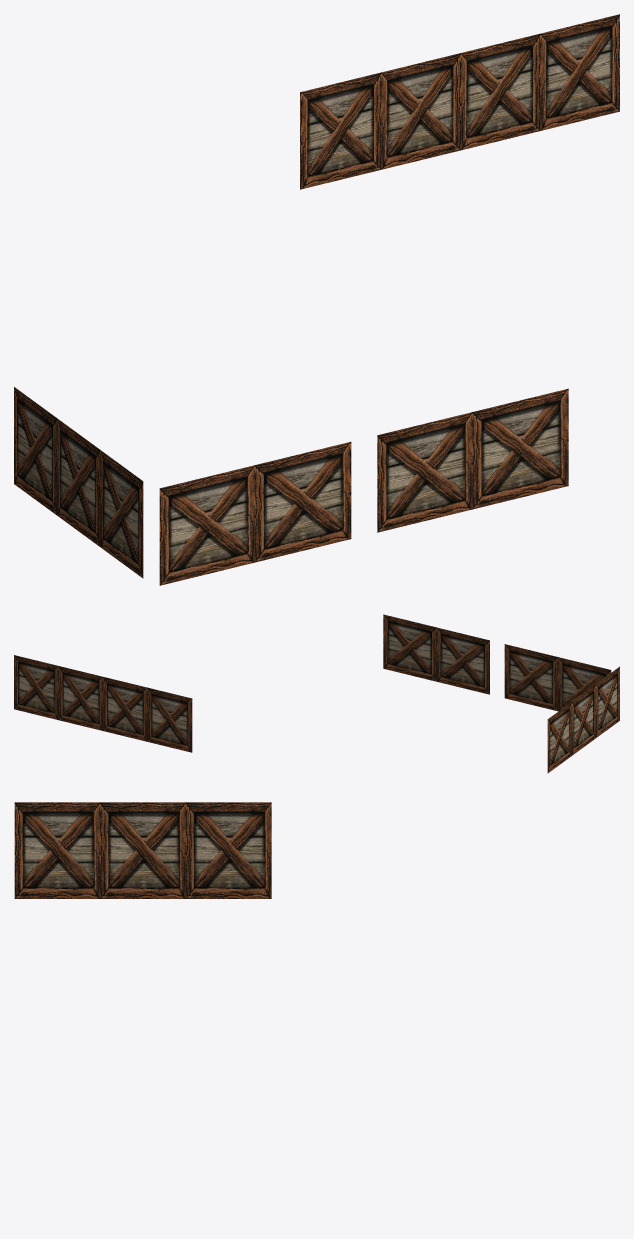
Rendered from LAKETOWN_EXTERIOR_PS_LT_PANELS2719.fbx.
3 views of the same model, one above another, from view 1: azimuth 30°, elevation 25°; view 2: azimuth 150°, elevation 25°; view 3: azimuth 270°, elevation 25° (orthographic). The views are drawn at different scales.
Visible parts, largest first — view 1: LAKETOWN_EXTERIOR_PS_LT_PANELS2719; view 2: LAKETOWN_EXTERIOR_PS_LT_PANELS2719; view 3: LAKETOWN_EXTERIOR_PS_LT_PANELS2719.
Part boxes in pixels (box(x1,y1,x2,y2)): LAKETOWN_EXTERIOR_PS_LT_PANELS2719: box(14, 14, 619, 585); LAKETOWN_EXTERIOR_PS_LT_PANELS2719: box(14, 614, 619, 773); LAKETOWN_EXTERIOR_PS_LT_PANELS2719: box(14, 802, 271, 898).
Bounding box in the file's own units: 85952 × 16936 × 58181.
1 material, 1 textured.
